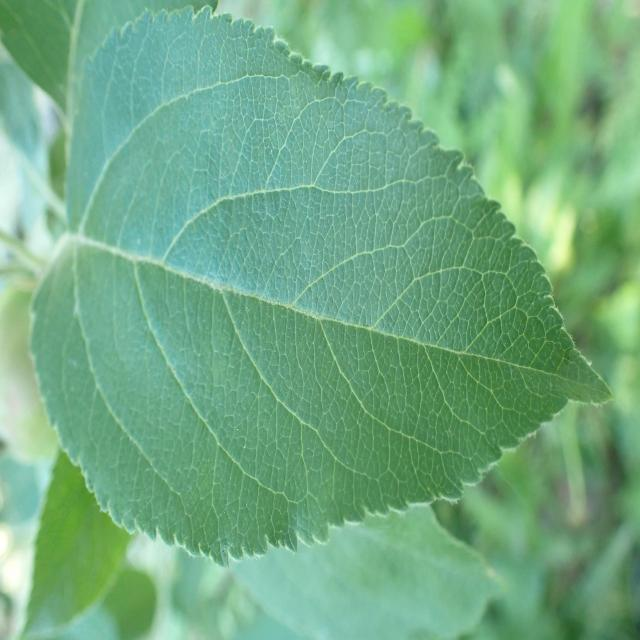healthy: (29, 5, 612, 568), (0, 0, 221, 116)
